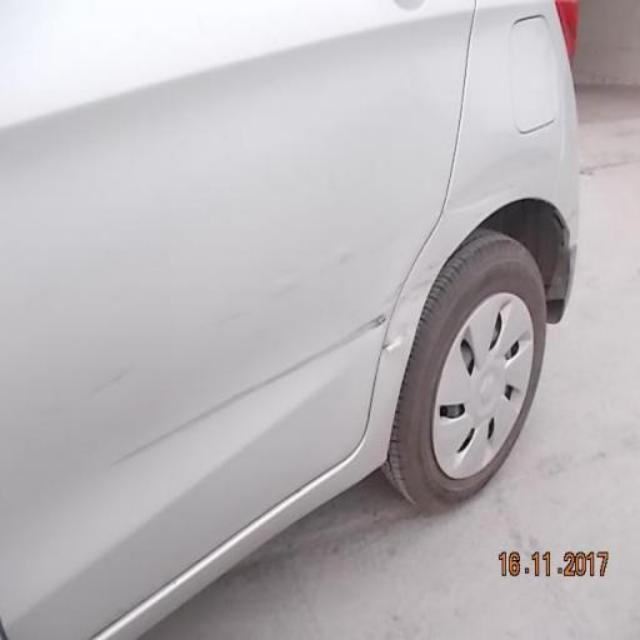scratch: (110, 262, 433, 470), (220, 226, 403, 315), (51, 365, 138, 417), (379, 331, 409, 360)
